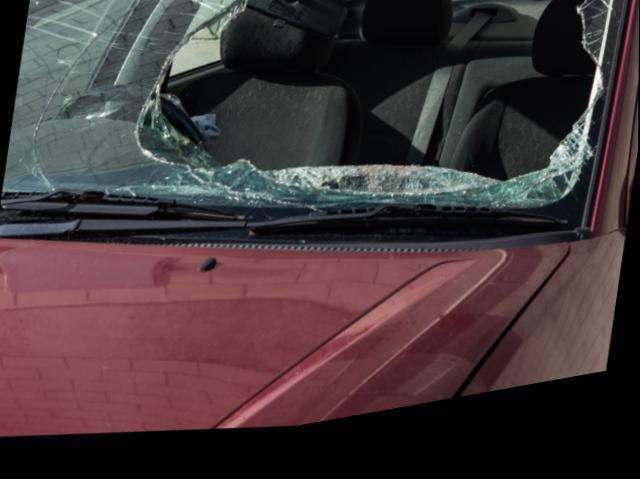glass shatter: (2, 0, 628, 245)
